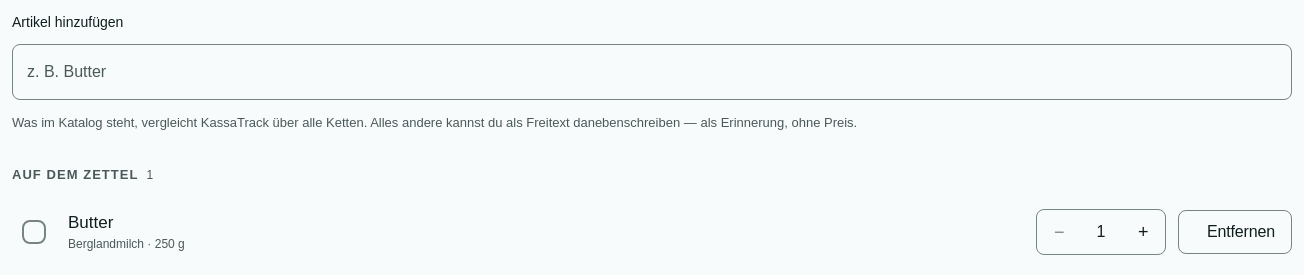
Test: ZettelDetail — Stückzahl › zeigt die geänderte Stückzahl schon vor der Serverantwort an
This screenshot has width=1304, height=275.
Step 1. Click the button named "Eins mehr" → (1143, 232), box [1121, 210, 1165, 254]
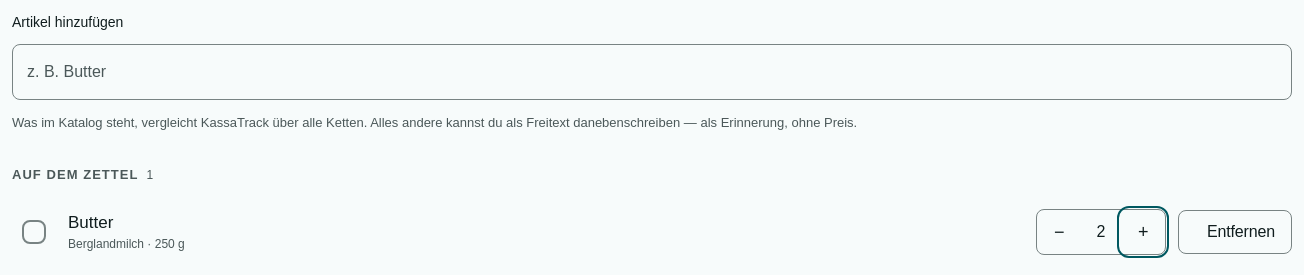
Check: the element with test id "stueckzahl-a1" reads "2", box [1097, 223, 1106, 240]
